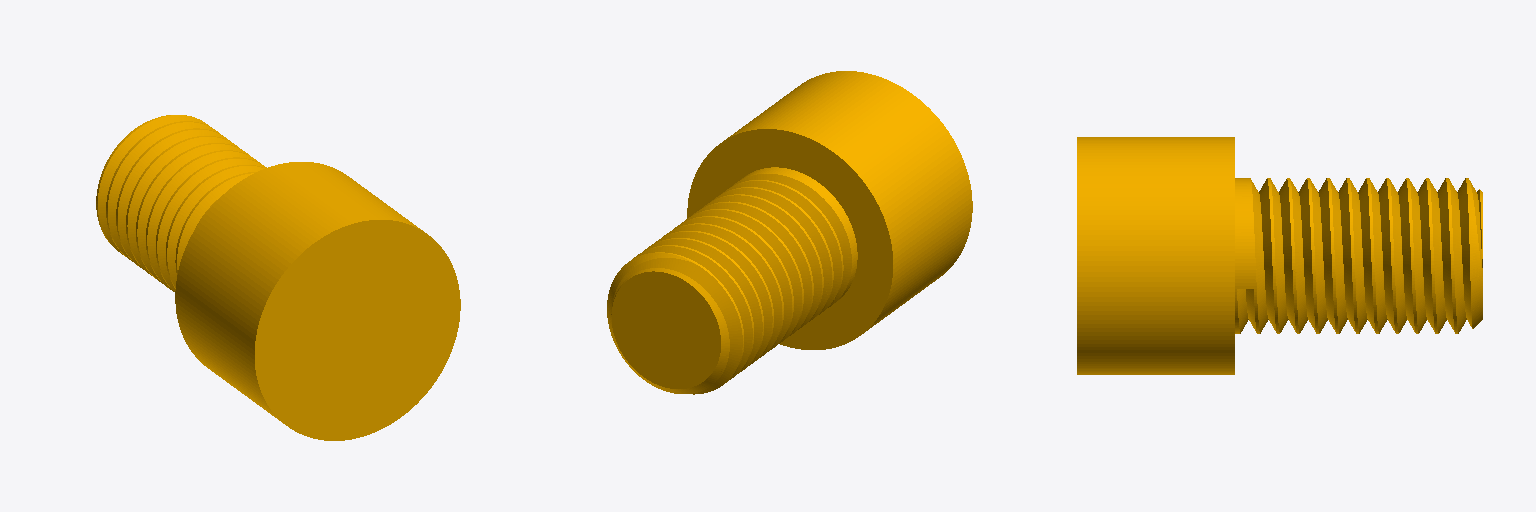
Rendered from tacsl_bolt_m16_loose_flipped.obj.
3 renders of one model, left to right at view 1: azimuth 30°, elevation 25°; view 2: azimuth 150°, elevation 25°; view 3: azimuth 270°, elevation 25°, orthographic.
Size of the model in its own units: 0.024 by 0.024 by 0.041.